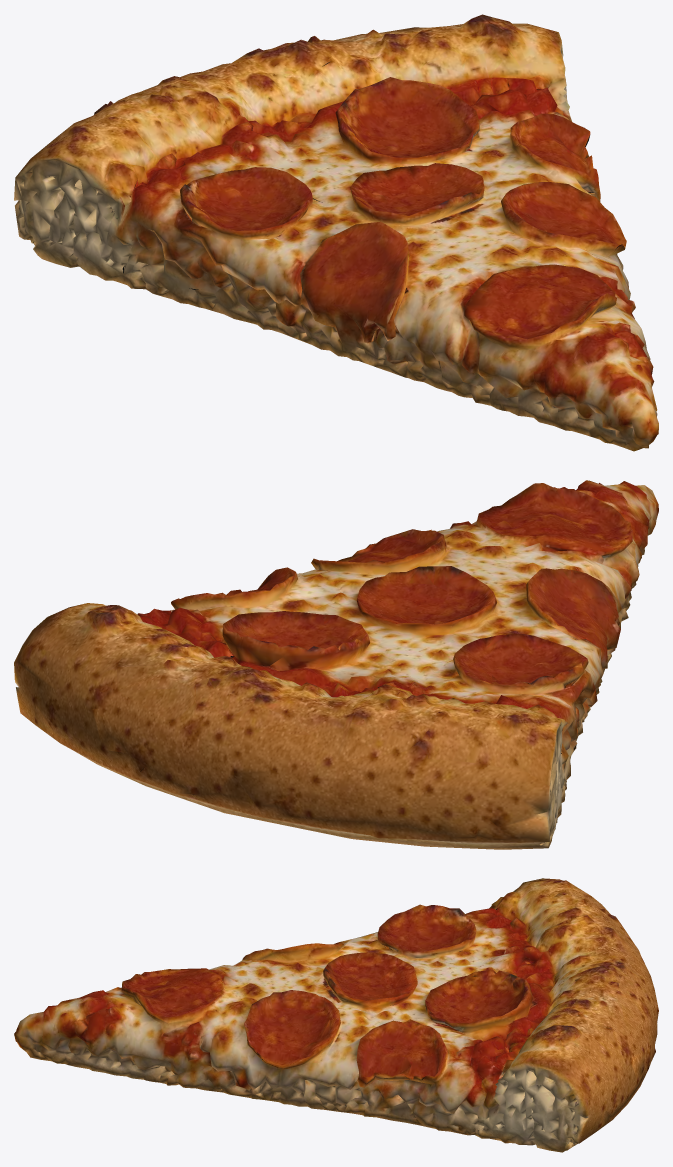
File: food-pizza.glb
The picture shows the model from 3 angles, top to bottom: view 1: azimuth 30°, elevation 25°; view 2: azimuth 150°, elevation 25°; view 3: azimuth 270°, elevation 25°; orthographic projection. The views are drawn at different scales.
Visible parts, largest first — view 1: Model; view 2: Model; view 3: Model.
Boxes of the visible parts, box(x1,y1,x2,y2) form: Model: box(14, 14, 658, 451); Model: box(14, 480, 658, 849); Model: box(14, 878, 658, 1152).
Bounding box in the file's own units: 1.41 × 0.3291 × 1.9.
Materials: 1 (1 with a texture image).
